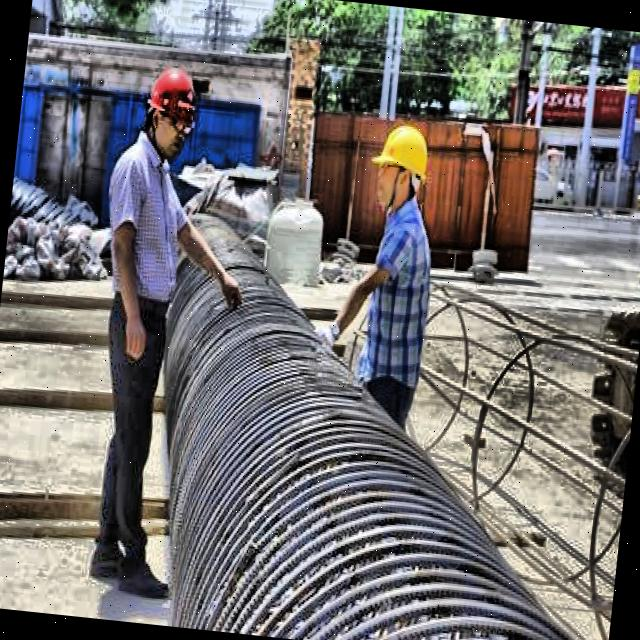helmet: (368, 115, 434, 218), (138, 59, 202, 158)
